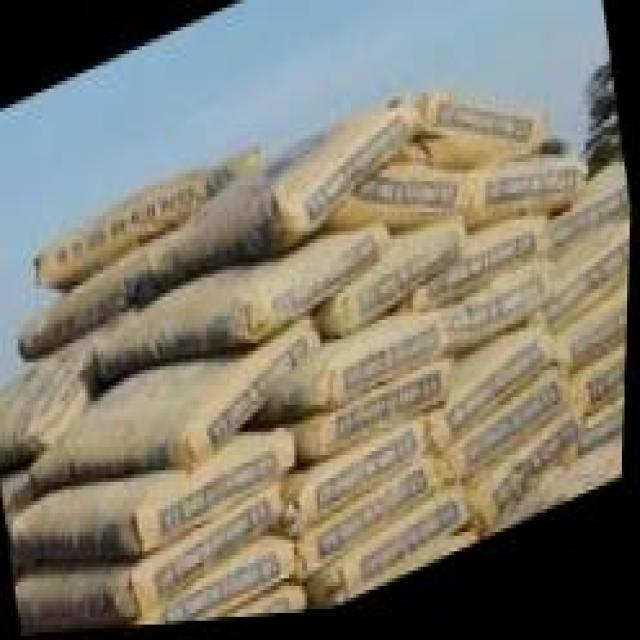gunny_bag: (104, 228, 395, 381), (36, 320, 322, 475), (154, 99, 414, 257), (19, 481, 287, 626), (21, 430, 297, 563), (41, 143, 256, 291), (335, 478, 471, 608), (302, 457, 445, 575), (0, 309, 129, 439), (28, 241, 172, 356), (435, 333, 561, 459), (341, 219, 472, 339), (131, 539, 294, 630), (317, 366, 455, 471), (305, 420, 426, 536), (478, 412, 588, 536), (449, 379, 571, 490), (322, 316, 451, 416), (451, 266, 555, 350), (478, 164, 586, 236), (357, 175, 467, 229), (553, 189, 633, 260), (567, 298, 631, 385), (578, 350, 629, 427)
